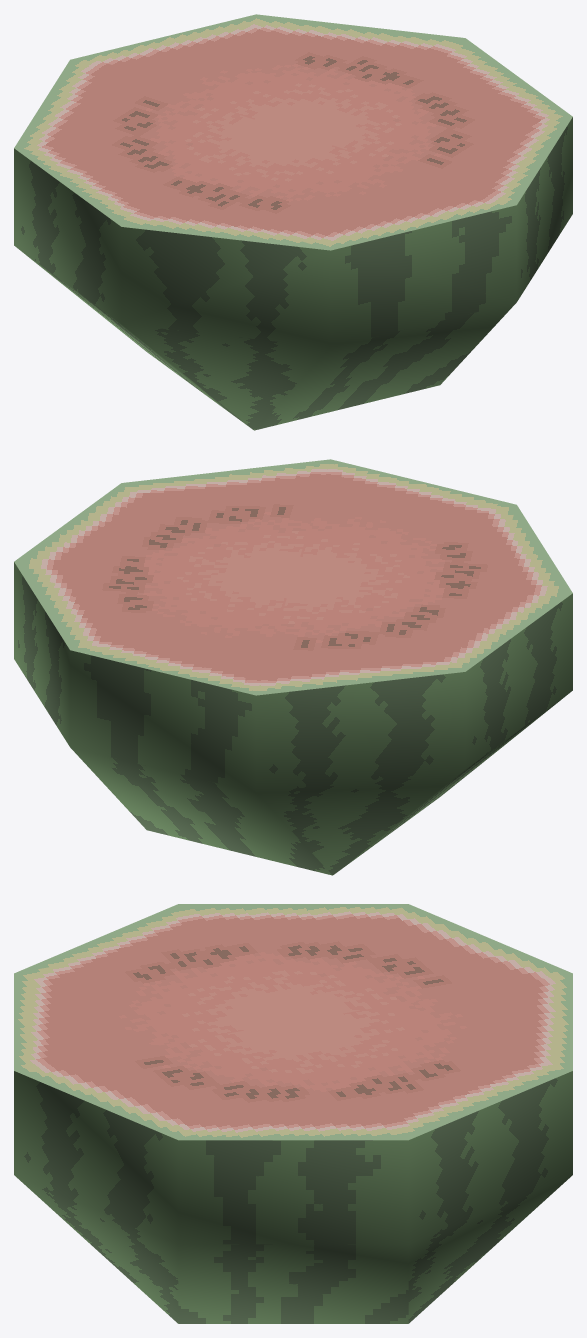
File: 02b4_Half_Watermelon.glb
3 renders of one model, top to bottom at view 1: azimuth 30°, elevation 25°; view 2: azimuth 150°, elevation 25°; view 3: azimuth 270°, elevation 25°, orthographic. The views are drawn at different scales.
Parts seen in each view (by area): view 1: part_0; view 2: part_0; view 3: part_0.
Part boxes in pixels (x1=…): part_0: x1=14, y1=14, x2=572, y2=430; part_0: x1=14, y1=459, x2=572, y2=875; part_0: x1=14, y1=904, x2=572, y2=1323.
Size of the model in its own units: 0.2587 by 0.1293 by 0.2587.
1 material, 1 textured.
